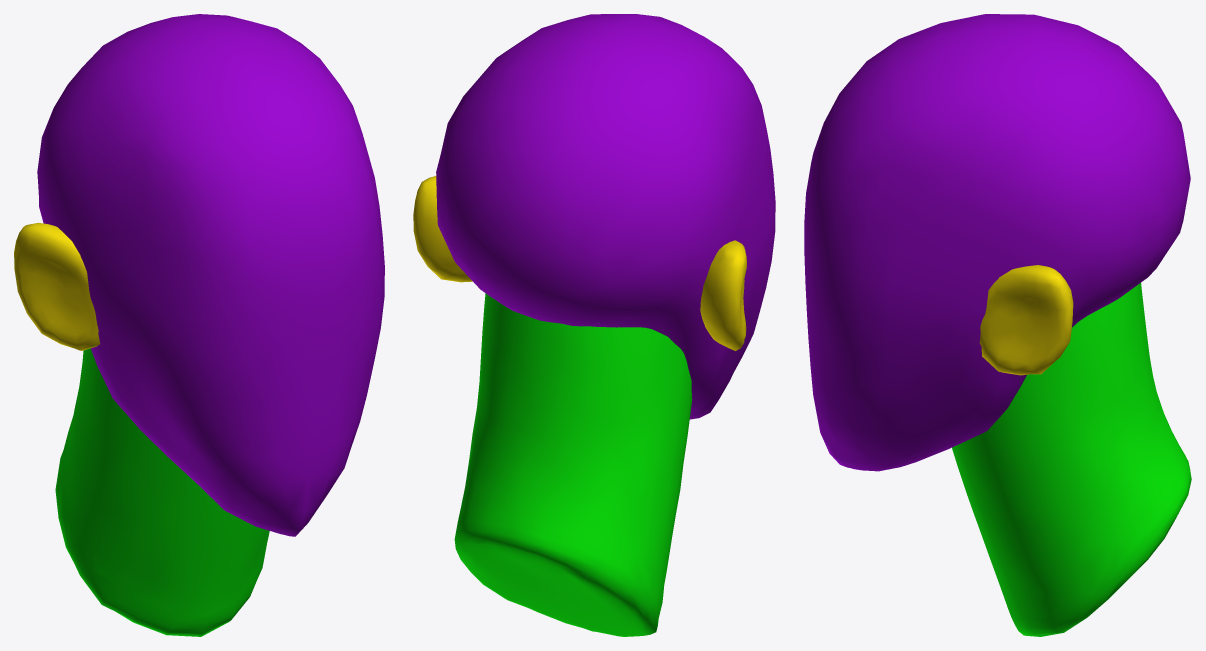
The model's file is CabezaGeo.fbx.
3 views of the same model, side by side, from view 1: azimuth 30°, elevation 25°; view 2: azimuth 150°, elevation 25°; view 3: azimuth 270°, elevation 25° (orthographic). The views are drawn at different scales.
Visible parts, largest first — view 1: Head2, Neck_copy1, Head1; view 2: Head2, Neck_copy1, Head1; view 3: Head2, Neck_copy1, Head1.
Boxes of the visible parts, x1=… form: Head2: x1=37, y1=14, x2=384, y2=536; Neck_copy1: x1=55, y1=348, x2=269, y2=636; Head1: x1=14, y1=222, x2=100, y2=350; Head2: x1=436, y1=14, x2=775, y2=419; Neck_copy1: x1=454, y1=293, x2=692, y2=636; Head1: x1=413, y1=176, x2=746, y2=350; Head2: x1=804, y1=14, x2=1190, y2=471; Neck_copy1: x1=952, y1=283, x2=1191, y2=636; Head1: x1=979, y1=265, x2=1073, y2=375.
Bounding box in the file's own units: 3.31 × 5.75 × 3.37.
